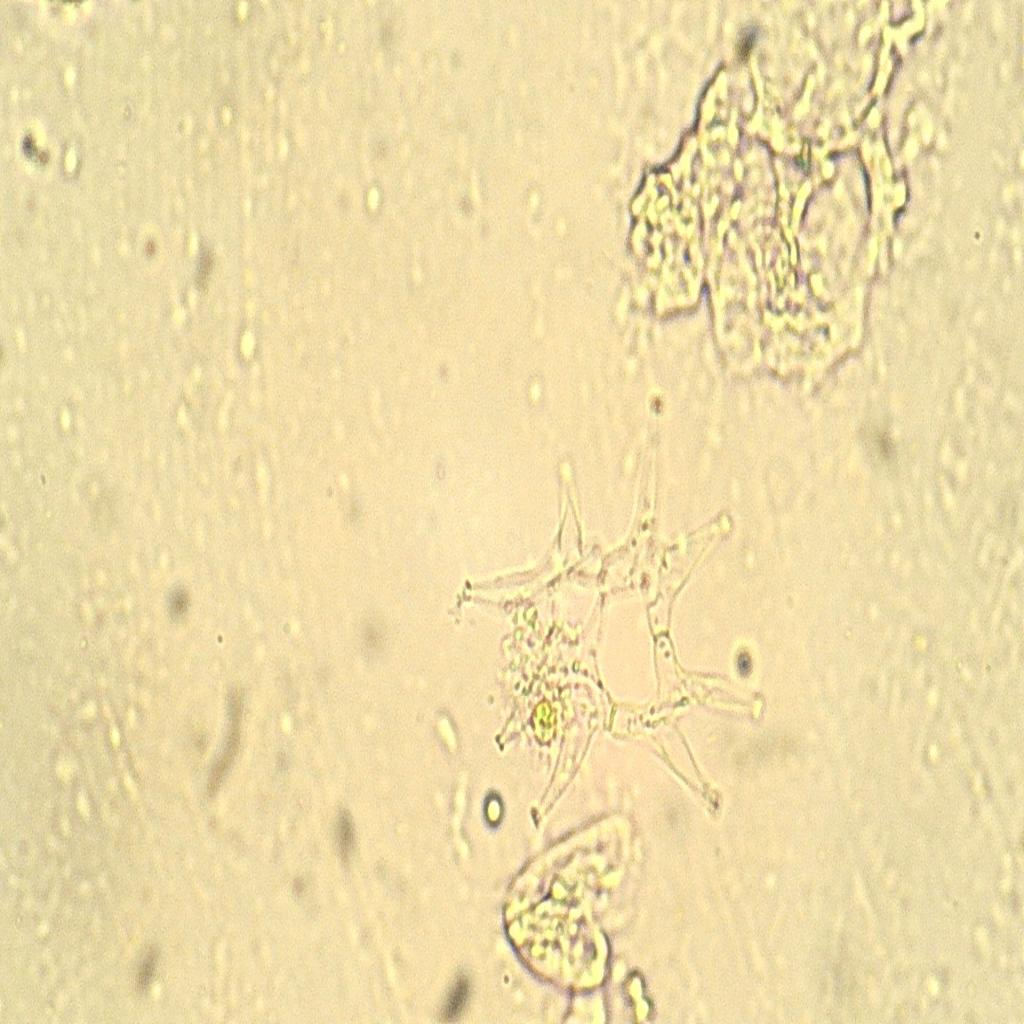Pediastrum_75TH: (443, 364, 768, 860)
